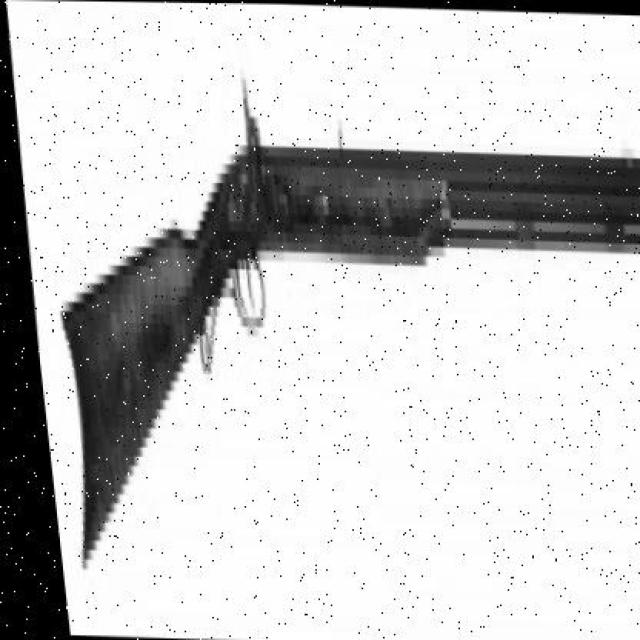weapon: (61, 79, 640, 573)
